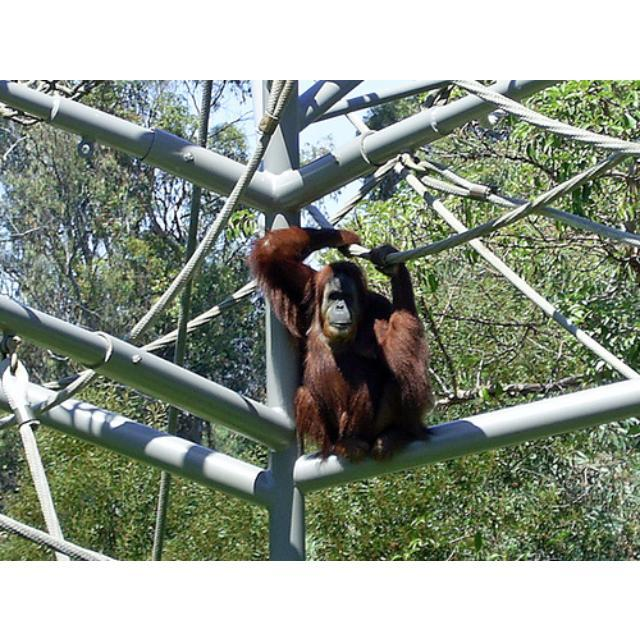Orangutan: (259, 225, 437, 452)
